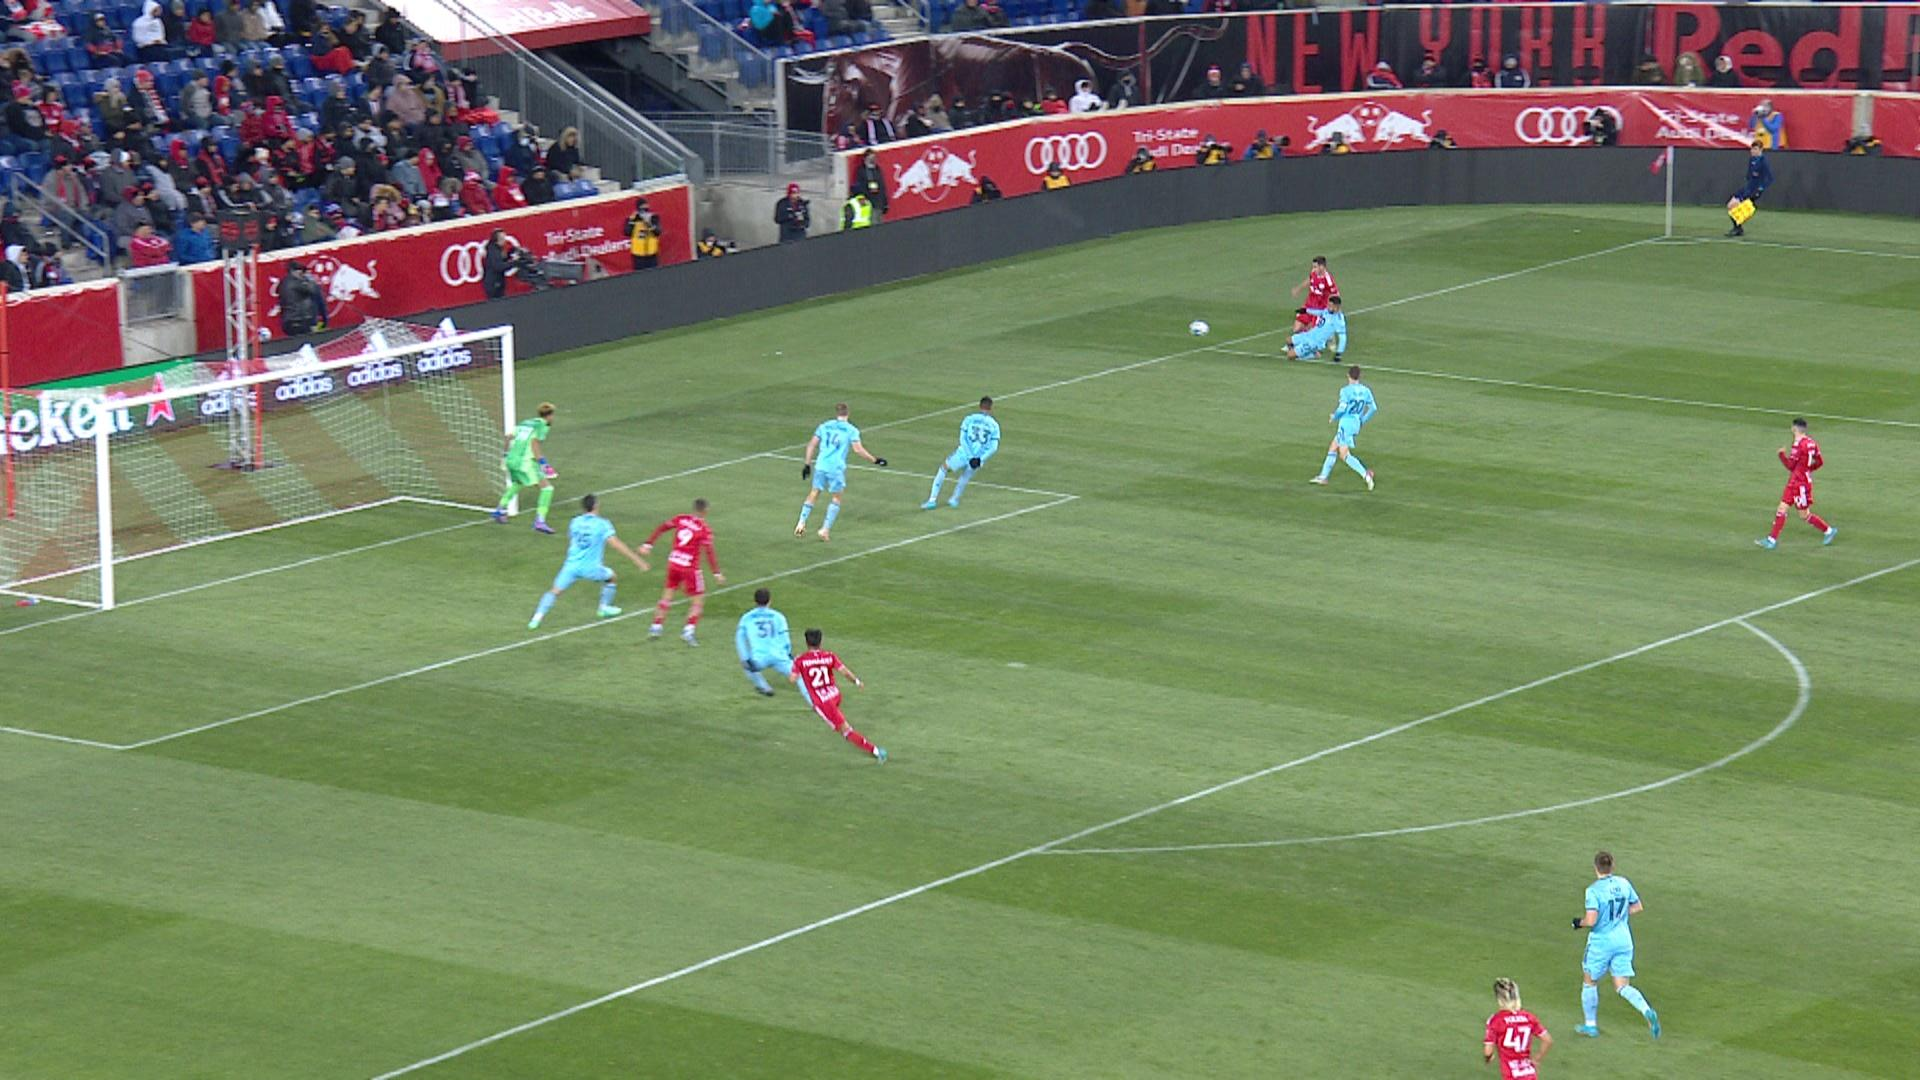football: (1188, 320, 1211, 337)
